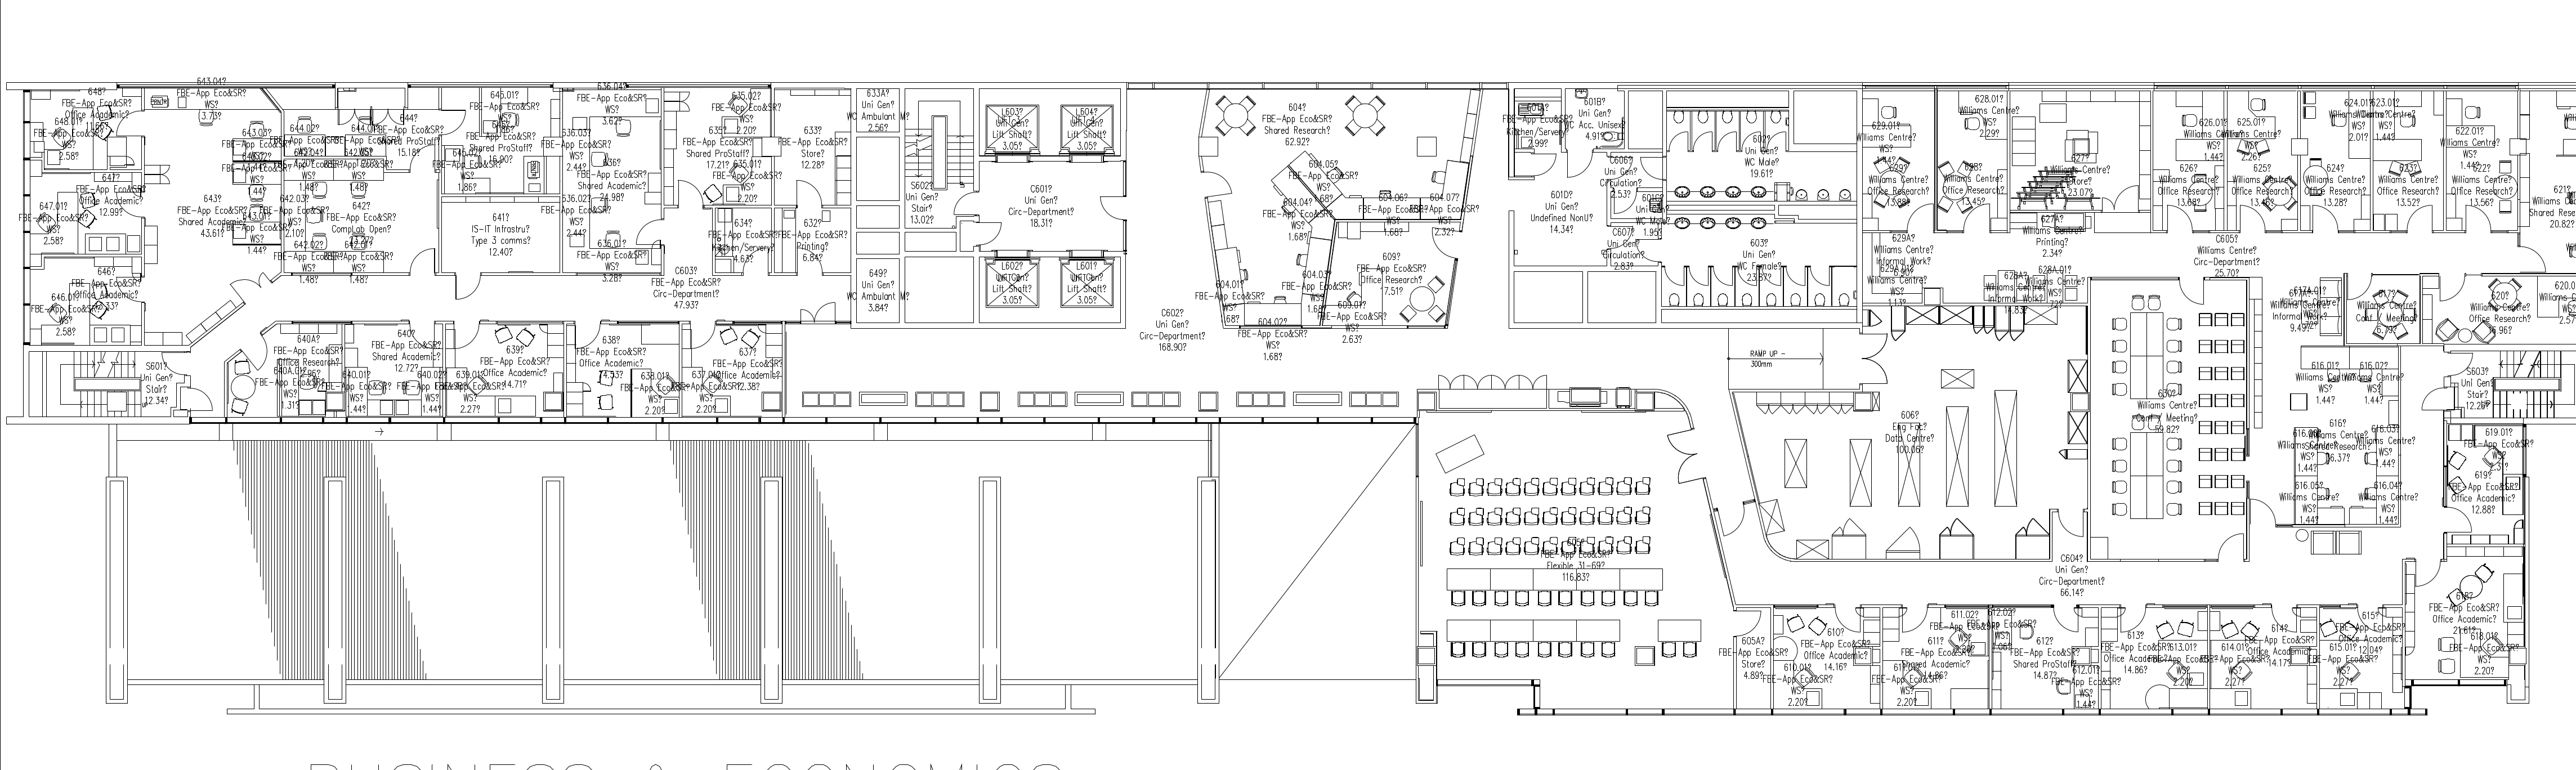room: (1416, 410, 1736, 716), (1728, 307, 2091, 561), (1199, 89, 1482, 366), (2088, 277, 2251, 561), (145, 87, 283, 351), (284, 110, 440, 294), (2275, 345, 2428, 529), (1659, 200, 1856, 327), (1664, 87, 1856, 205), (2009, 89, 2154, 233), (560, 89, 664, 277), (1321, 220, 1467, 348), (2402, 543, 2525, 686), (974, 156, 1127, 256), (442, 197, 560, 314), (660, 87, 774, 207), (442, 87, 560, 195), (444, 320, 567, 424), (223, 320, 345, 424), (1771, 604, 1883, 716), (2098, 604, 2210, 714), (1991, 604, 2101, 714), (2208, 606, 2320, 714), (1881, 604, 1988, 716), (1856, 87, 1937, 233), (567, 320, 682, 422), (2423, 273, 2576, 346), (30, 253, 143, 351), (770, 82, 858, 209), (2517, 90, 2576, 276), (1935, 85, 2009, 233), (23, 84, 145, 172), (23, 169, 145, 258), (682, 320, 785, 422), (2300, 90, 2372, 235), (2154, 92, 2228, 233), (345, 320, 445, 424), (2446, 90, 2518, 233), (2228, 92, 2300, 233), (2443, 424, 2527, 545), (2372, 90, 2443, 233), (2316, 606, 2405, 714), (2343, 273, 2420, 346), (774, 207, 851, 274), (1508, 82, 1561, 181), (1561, 84, 1630, 153), (713, 204, 774, 276), (1733, 604, 1773, 714), (1607, 149, 1663, 223), (1607, 218, 1663, 273)
